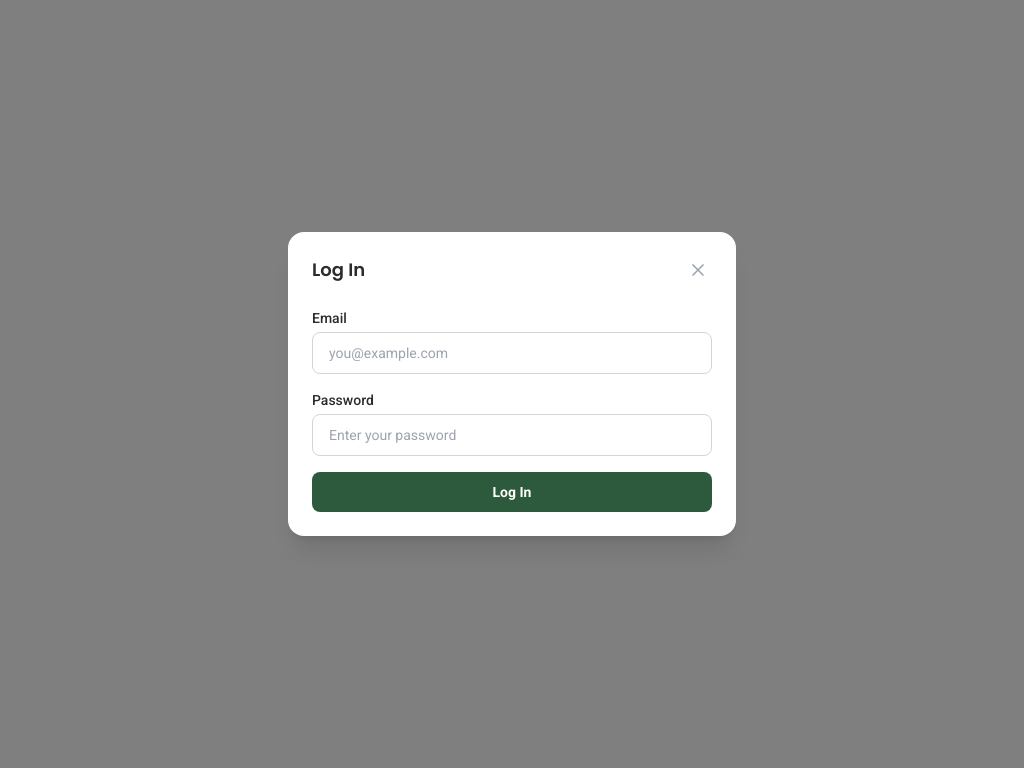
Test: LoginModal › shows form error on login failure
In the field labelled "Email": coordinates (512, 353) [312, 332, 712, 374], type "test@example.com"
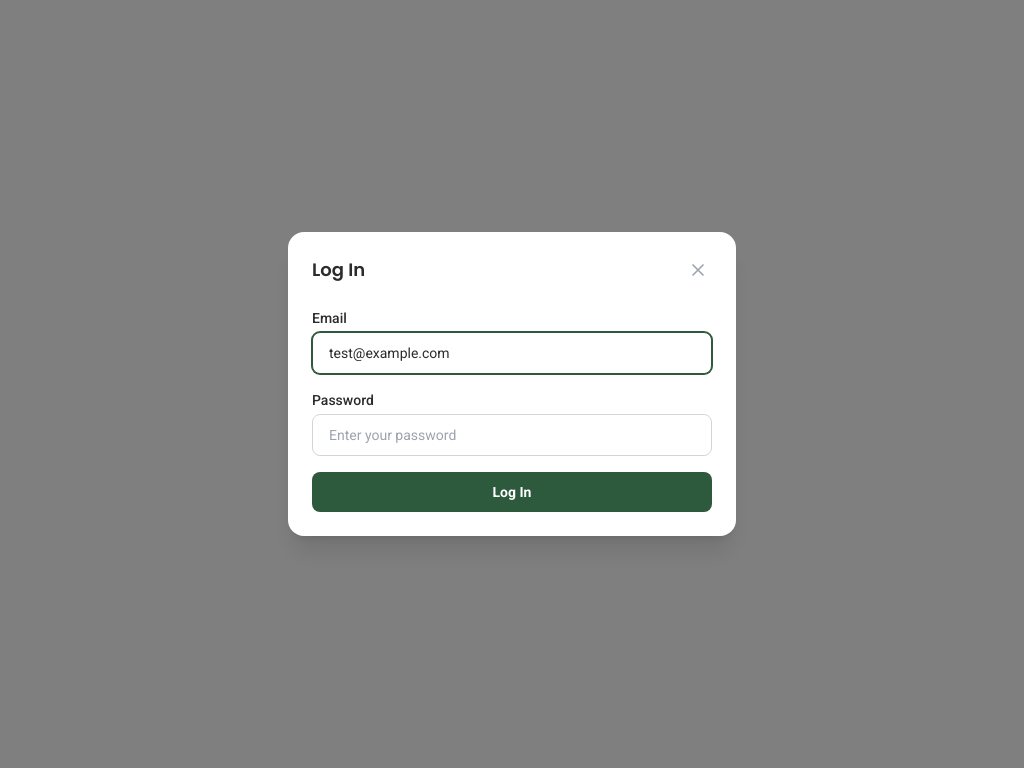
In the password field labelled "Password": coordinates (512, 435) [312, 414, 712, 456], type "password123"
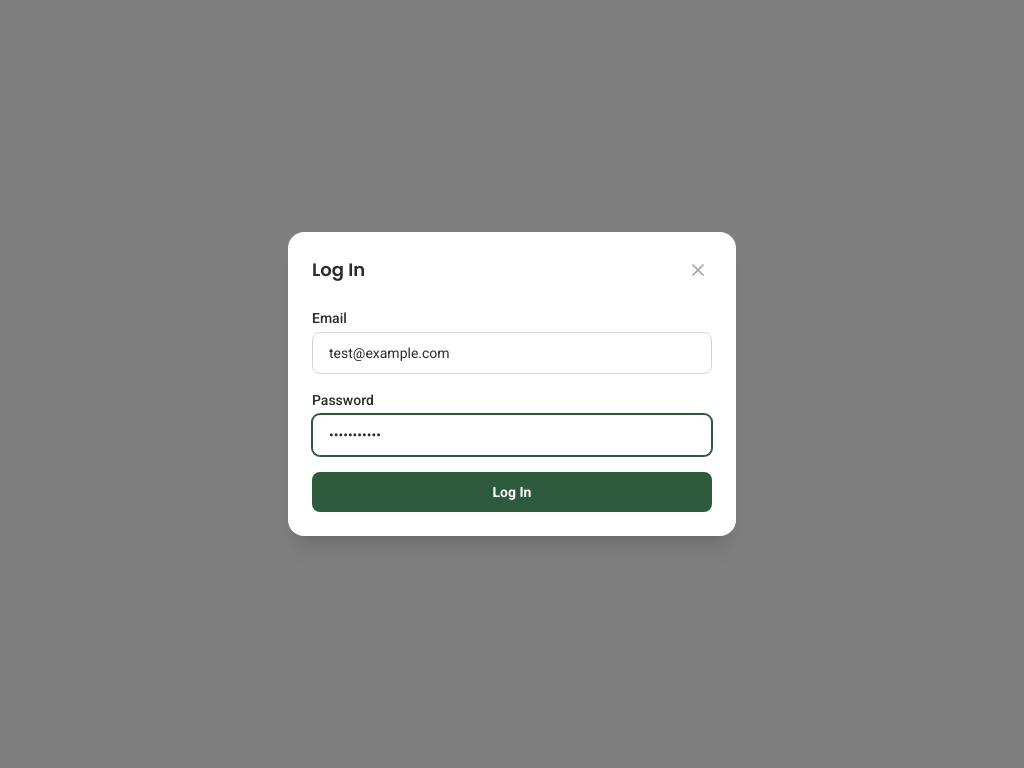
Click the button "Log In": coordinates (512, 492) [312, 472, 712, 512]
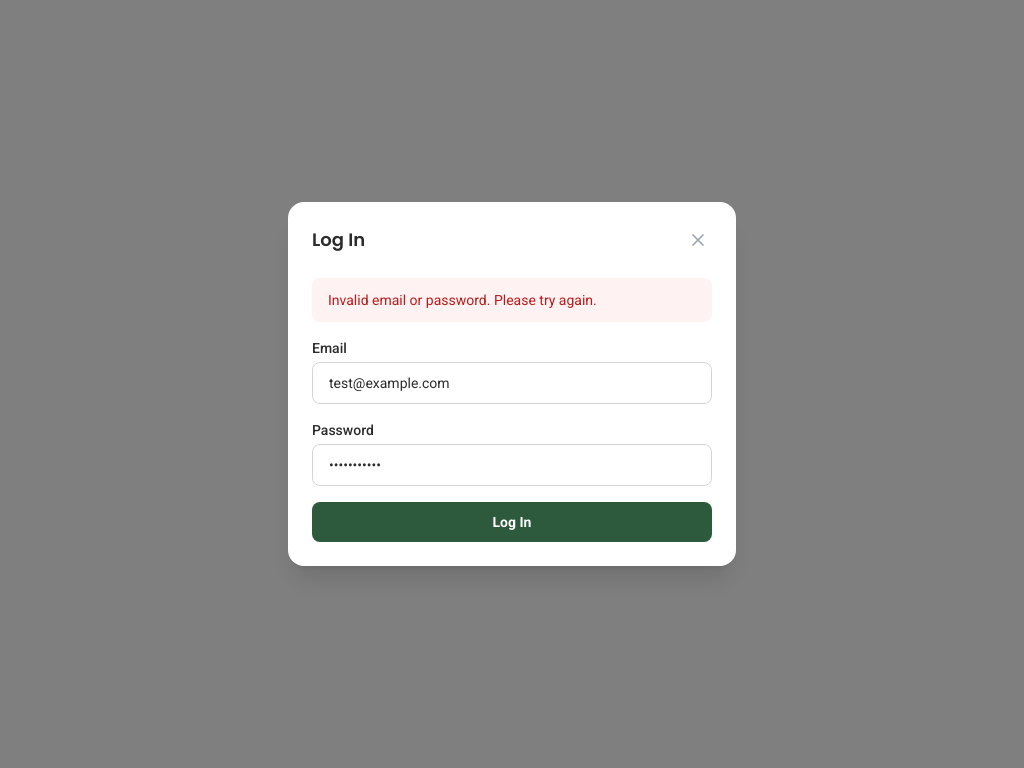
Expected: the message reads "Invalid email or password. Please try again.", [328, 292, 597, 308]
